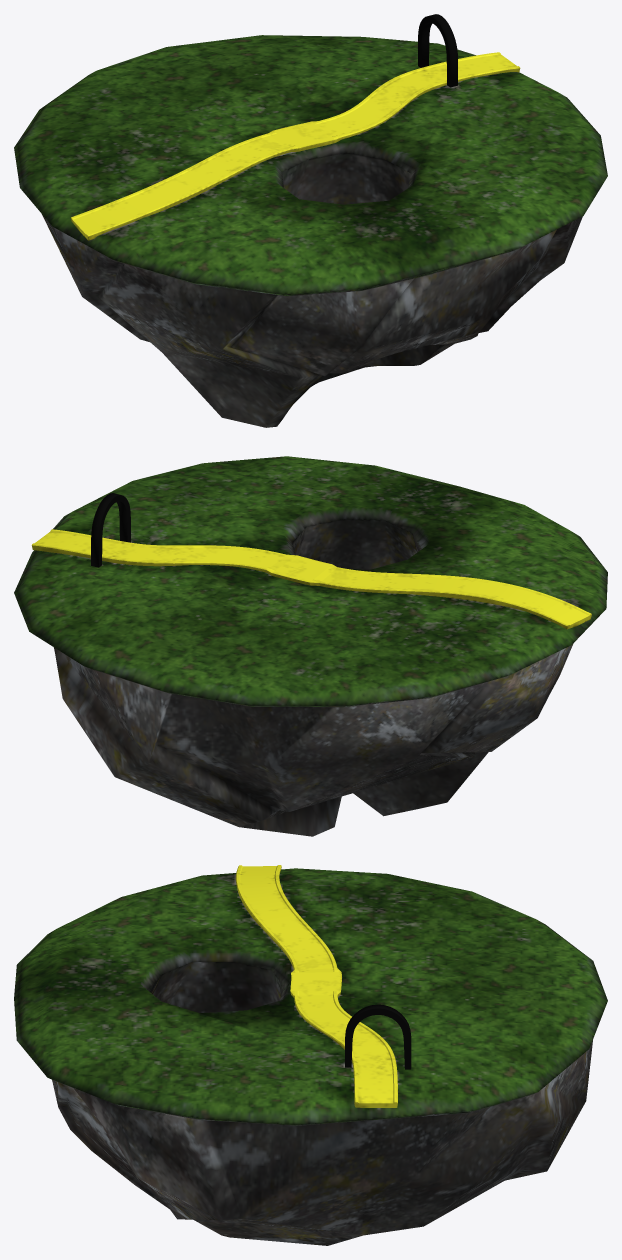
File: island_1.glb
3 renders of one model, top to bottom at view 1: azimuth 30°, elevation 25°; view 2: azimuth 150°, elevation 25°; view 3: azimuth 270°, elevation 25°, orthographic. The views are drawn at different scales.
Parts seen in each view (by area): view 1: Island2, Road, Archway.001; view 2: Island2, Road, Archway.001; view 3: Island2, Road, Archway.001.
Boxes of the visible parts, left/top/right/bottom form: Island2: left=14, top=35, right=607, bottom=427; Road: left=70, top=52, right=520, bottom=240; Archway.001: left=418, top=14, right=457, bottom=87; Island2: left=14, top=456, right=607, bottom=836; Road: left=31, top=529, right=591, bottom=629; Archway.001: left=91, top=493, right=130, bottom=567; Island2: left=14, top=868, right=607, bottom=1245; Road: left=235, top=865, right=397, bottom=1107; Archway.001: left=345, top=1004, right=411, bottom=1069.
Bounding box in the file's own units: 24.81 × 14.52 × 24.2.
1 material, 1 textured.
